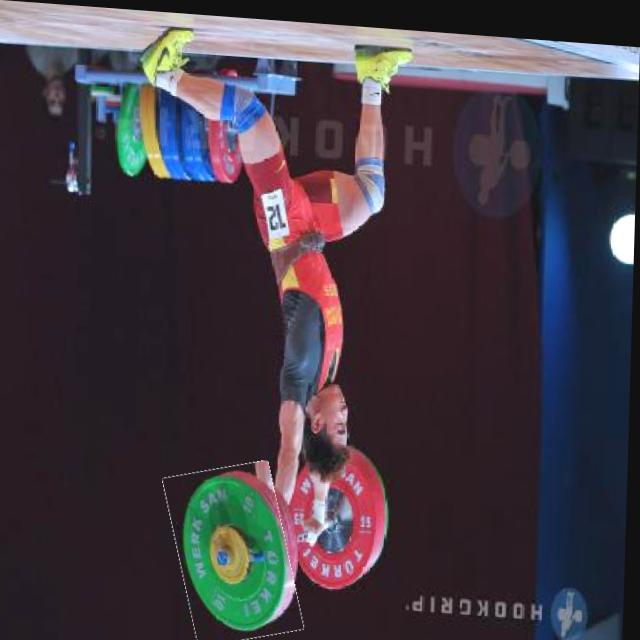barbell: (172, 457, 303, 640)
